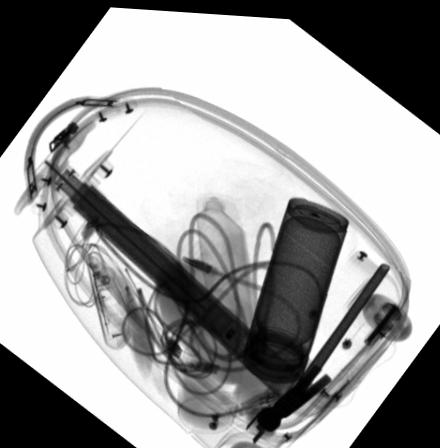Hammer: (254, 257, 390, 428)
